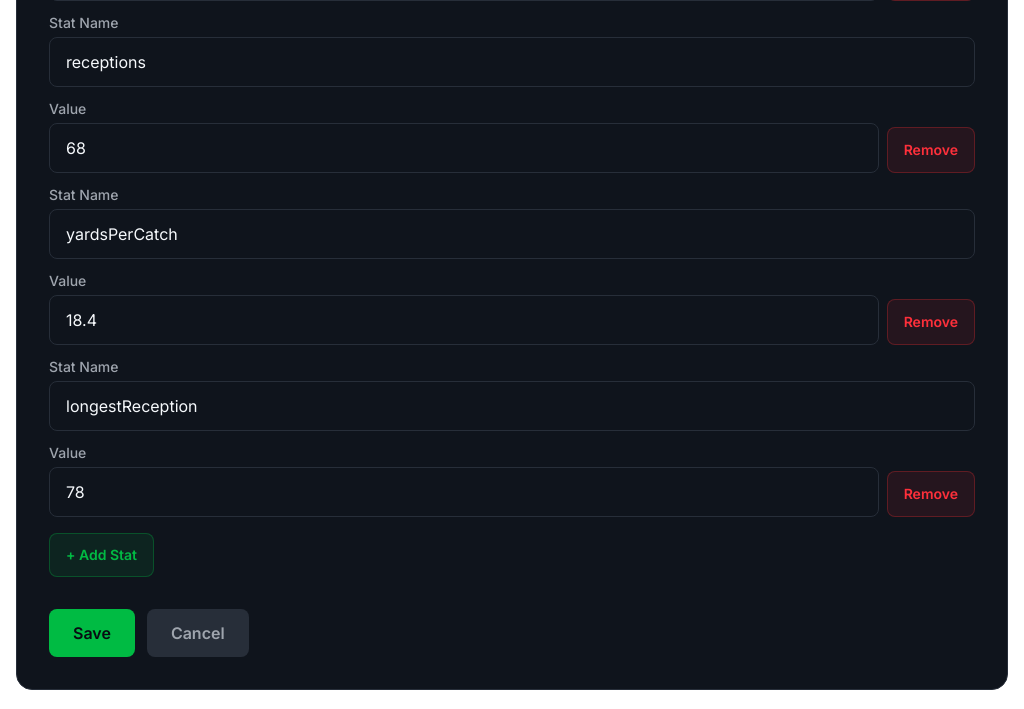
Test: StatsShowcase - Inline Editing › Exiting edit mode - Save (Requirements 1.5) › disables inputs during save
(page scrolled)
Step 1. Click the button "Save" → (92, 633), box [49,609,135,657]
(page scrolled)
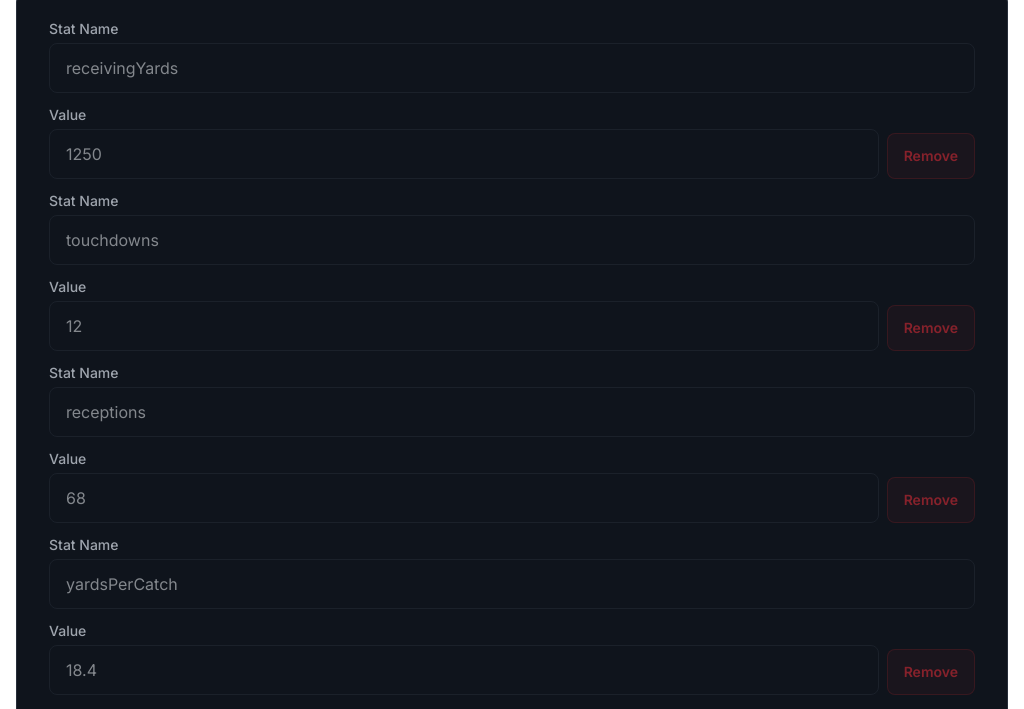
Expected: the 1st field labelled "Value" is disabled, [49,129,879,179]
